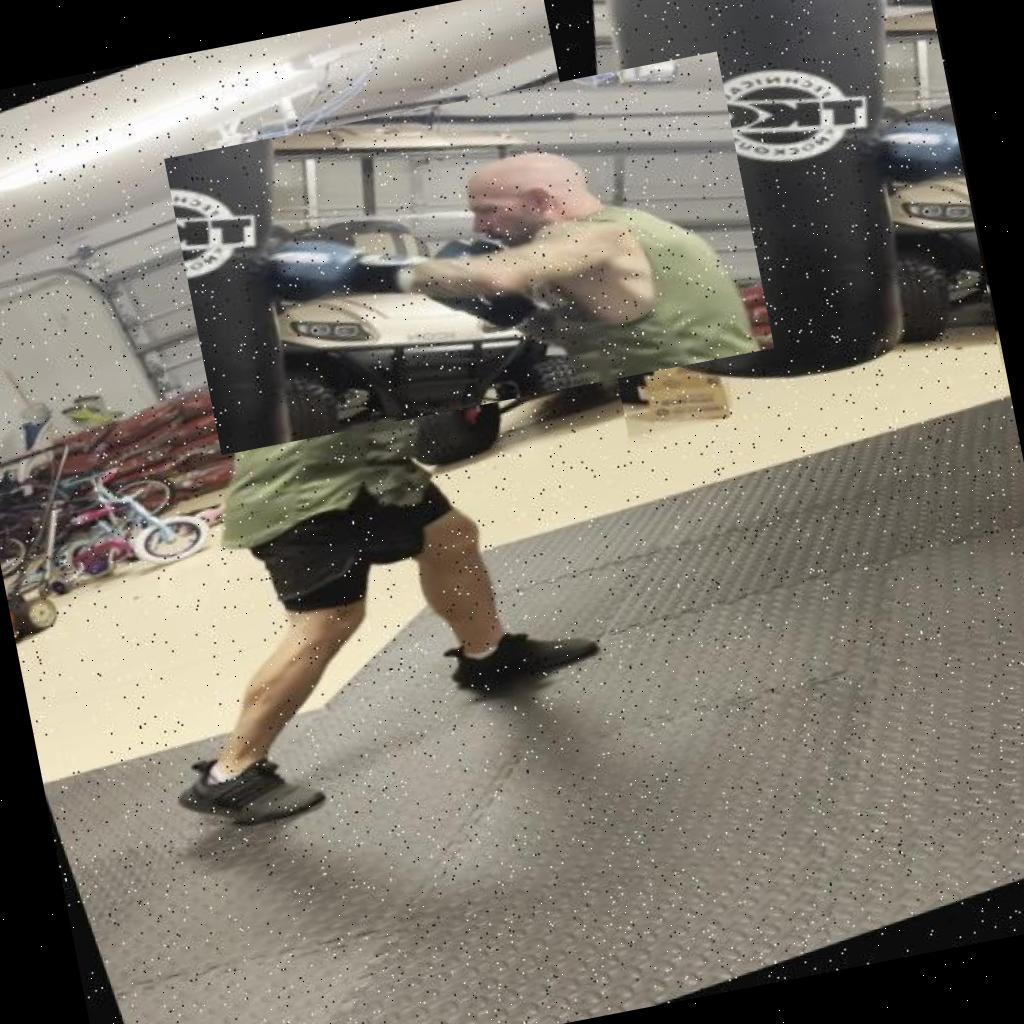bag: (541, 0, 1004, 447)
cross: (164, 52, 774, 456)
